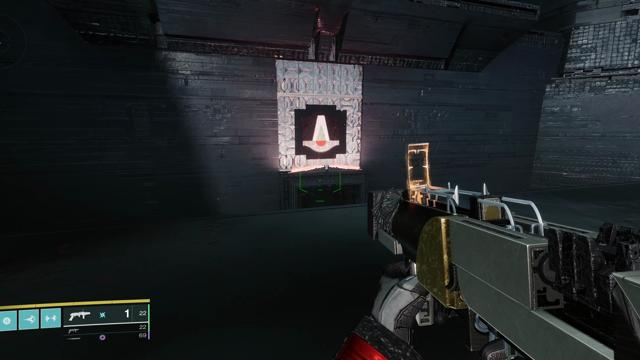enter: (301, 112, 340, 152)
